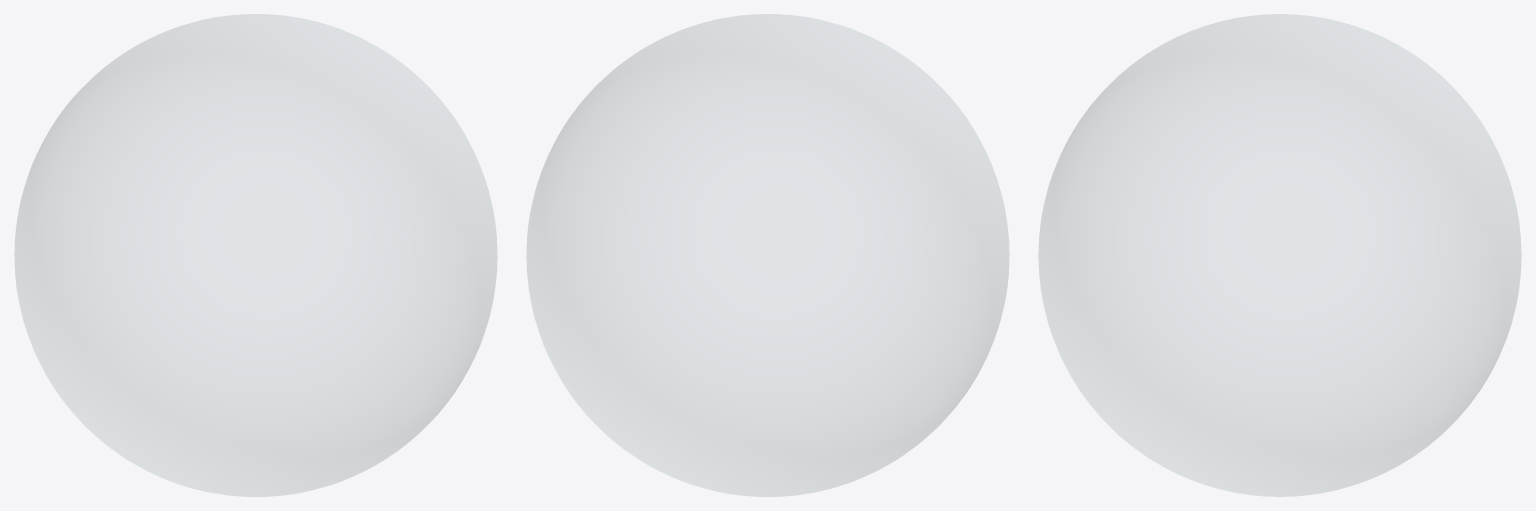
The model's file is bubble.glb.
3 views of the same model, side by side, from view 1: azimuth 30°, elevation 25°; view 2: azimuth 150°, elevation 25°; view 3: azimuth 270°, elevation 25° (orthographic).
Parts seen in each view (by area): view 1: bubble-shell; view 2: bubble-shell; view 3: bubble-shell.
Part boxes in pixels (bbox=[...]): bubble-shell: bbox=[14, 14, 497, 496]; bubble-shell: bbox=[526, 14, 1009, 496]; bubble-shell: bbox=[1038, 14, 1521, 496].
Size of what is drawn, in the model's own units: 2 by 2 by 2.
